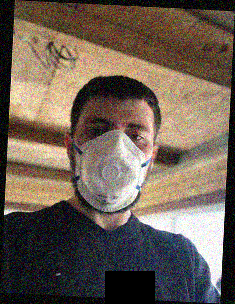with_mask: (71, 110, 152, 214)
